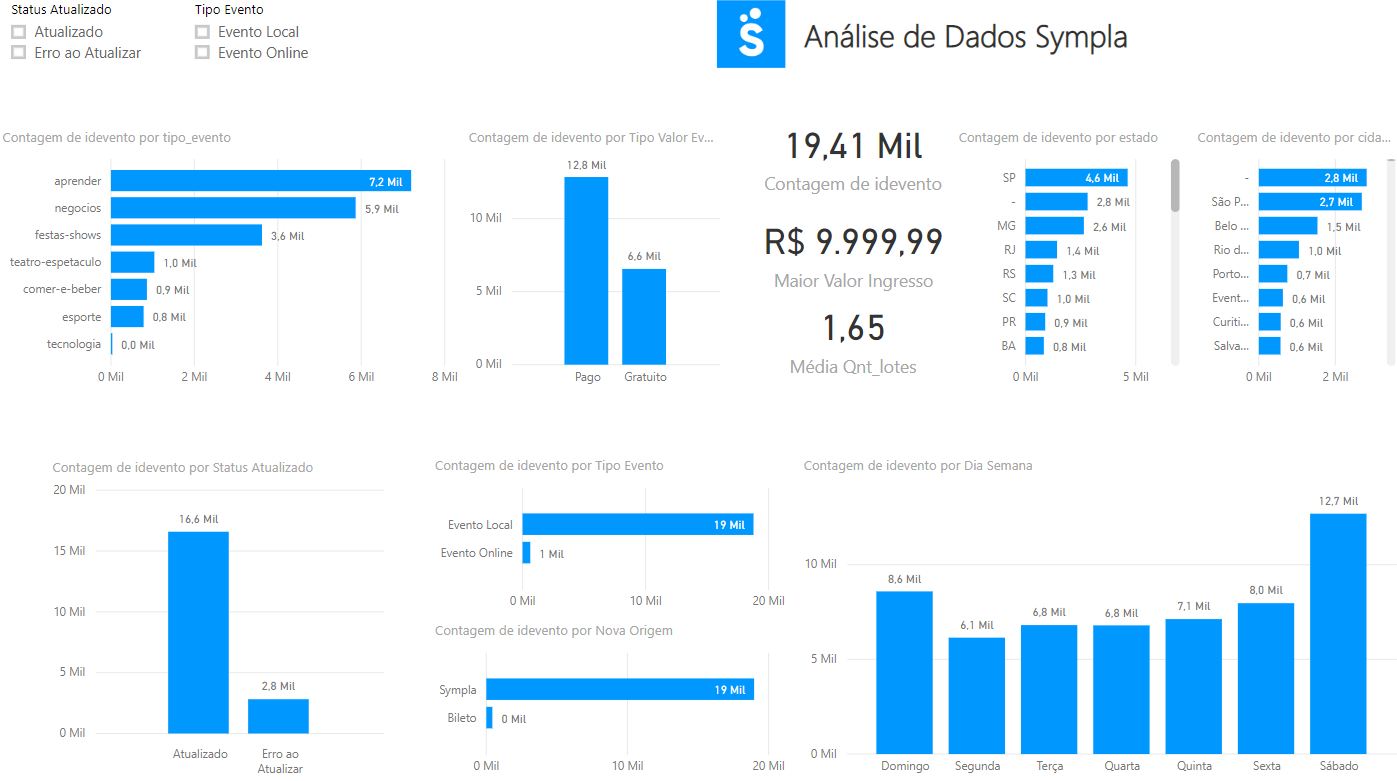

The dashboard page shown, as its layout file describes it:
{"tool":"powerbi","page":{"name":"Página 1","canvas":[1280,720],"ordinal":0},"visuals":[{"type":"card","fields":{"Values":["Count(tb_eventos.idevento)"]},"box":[671.8,83.2,216,124.3],"z":0},{"type":"clusteredColumnChart","fields":{"Category":["tb_datas.Dia Semana"],"Y":["CountNonNull(tb_datas.idevento)"]},"box":[730.3,420.4,550.3,299.6],"z":1000},{"type":"card","fields":{"Values":["tb_datas.Maior Valor Ingresso"]},"box":[673,171.4,214.9,124.3],"z":2000},{"type":"slicer","fields":{"Values":["tb_eventos.Status Atualizado"]},"box":[0,0,167,84.8],"z":3000},{"type":"clusteredColumnChart","fields":{"Category":["tb_eventos.Status Atualizado"],"Y":["Count(tb_eventos.idevento)"]},"box":[45.6,421.5,312.2,298.5],"z":4000},{"type":"clusteredBarChart","fields":{"Category":["tb_eventos.tipo_evento"],"Y":["Count(tb_eventos.idevento)"]},"box":[0,120.6,425.1,243.9],"z":5000},{"type":"clusteredBarChart","fields":{"Category":["tb_eventos.estado"],"Y":["Count(tb_eventos.idevento)"]},"box":[871.1,120.8,211.4,243.9],"z":6000},{"type":"clusteredBarChart","fields":{"Category":["tb_eventos.cidade"],"Y":["Count(tb_eventos.idevento)"]},"box":[1089.5,120.6,190.5,243.9],"z":7000},{"type":"clusteredBarChart","fields":{"Category":["tb_eventos.Tipo Evento"],"Y":["Count(tb_eventos.idevento)"]},"box":[394.2,420.4,329.2,149.2],"z":8000},{"type":"slicer","fields":{"Values":["tb_eventos.Tipo Evento"]},"box":[167,0,167,84.8],"z":9000},{"type":"clusteredBarChart","fields":{"Category":["tb_eventos.Nova Origem"],"Y":["Count(tb_eventos.idevento)"]},"box":[394.2,570.8,329.2,149.2],"z":10000},{"type":"clusteredColumnChart","fields":{"Category":["tb_eventos.Tipo Valor Evento"],"Y":["Count(tb_eventos.idevento)"]},"box":[425.1,120.6,239.3,243.9],"z":11000},{"type":"image","box":[650.3,0.5,73.1,71.8],"z":12000},{"type":"textbox","box":[729.9,12.2,337.9,53.5],"z":13000},{"type":"card","fields":{"Values":["tb_eventos.Média Qnt_lotes"]},"box":[671.8,249.3,216,124.3],"z":14000}]}

Visuals, with their boxes in screenshot pixels (x1, y1, x2, y2), scaled from the page's 1280x720 canvas onto the 1397x781 screenshot:
card - Count(tb_eventos.idevento): region(733, 90, 969, 225)
clusteredColumnChart - tb_datas.Dia Semana x CountNonNull(tb_datas.idevento): region(797, 456, 1396, 780)
card - tb_datas.Maior Valor Ingresso: region(735, 186, 969, 321)
slicer - tb_eventos.Status Atualizado: region(0, 0, 182, 92)
clusteredColumnChart - tb_eventos.Status Atualizado x Count(tb_eventos.idevento): region(50, 457, 391, 780)
clusteredBarChart - tb_eventos.tipo_evento x Count(tb_eventos.idevento): region(0, 131, 464, 395)
clusteredBarChart - tb_eventos.estado x Count(tb_eventos.idevento): region(951, 131, 1181, 396)
clusteredBarChart - tb_eventos.cidade x Count(tb_eventos.idevento): region(1189, 131, 1396, 395)
clusteredBarChart - tb_eventos.Tipo Evento x Count(tb_eventos.idevento): region(430, 456, 790, 618)
slicer - tb_eventos.Tipo Evento: region(182, 0, 365, 92)
clusteredBarChart - tb_eventos.Nova Origem x Count(tb_eventos.idevento): region(430, 619, 790, 780)
clusteredColumnChart - tb_eventos.Tipo Valor Evento x Count(tb_eventos.idevento): region(464, 131, 725, 395)
image: region(710, 1, 790, 78)
textbox: region(797, 13, 1165, 71)
card - tb_eventos.Média Qnt_lotes: region(733, 270, 969, 405)
